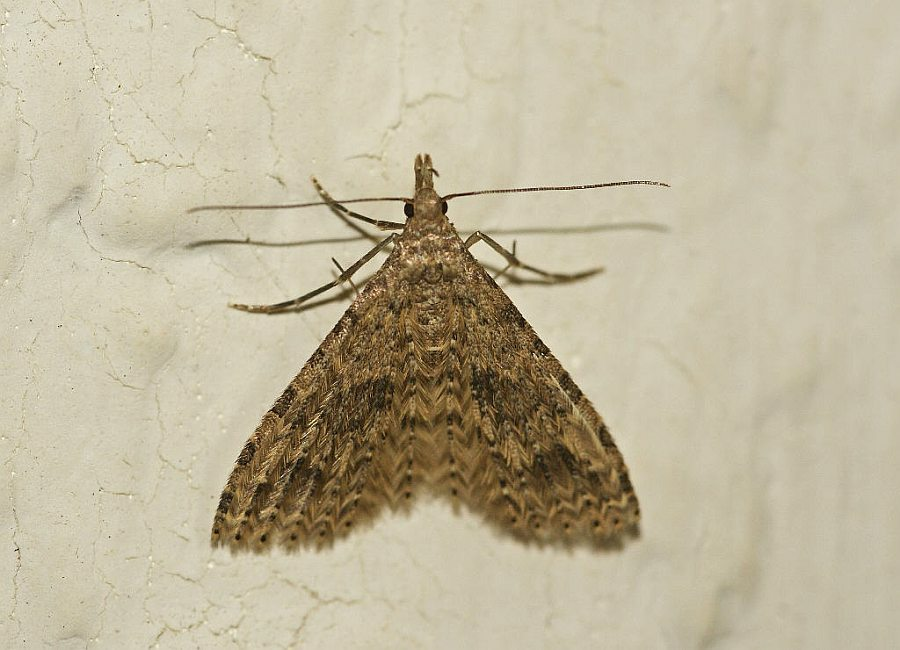Alucitidae: (169, 139, 668, 566)
moth: (167, 137, 666, 564)
